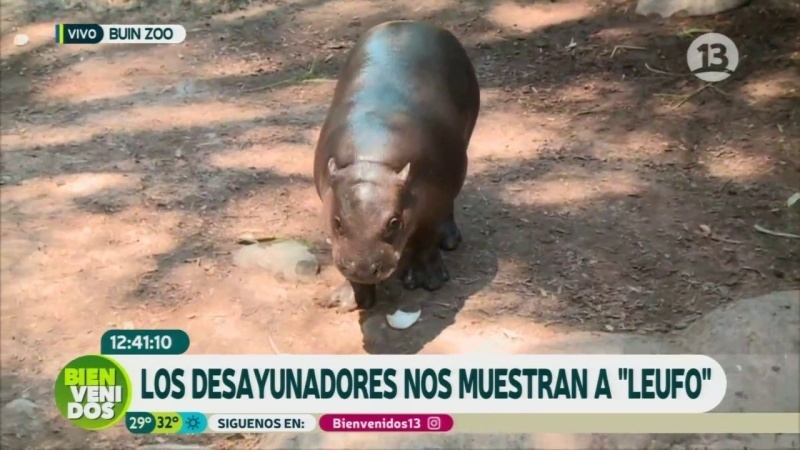hipopotamo: (285, 13, 513, 325)
